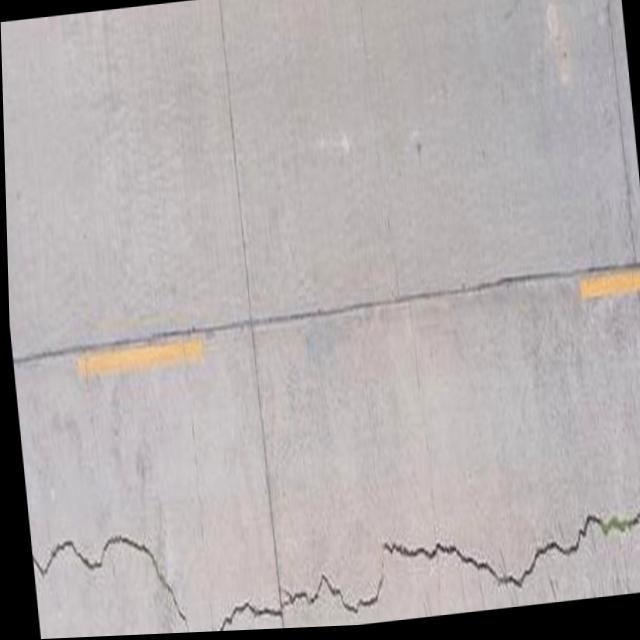Crack: (23, 440, 640, 640)
